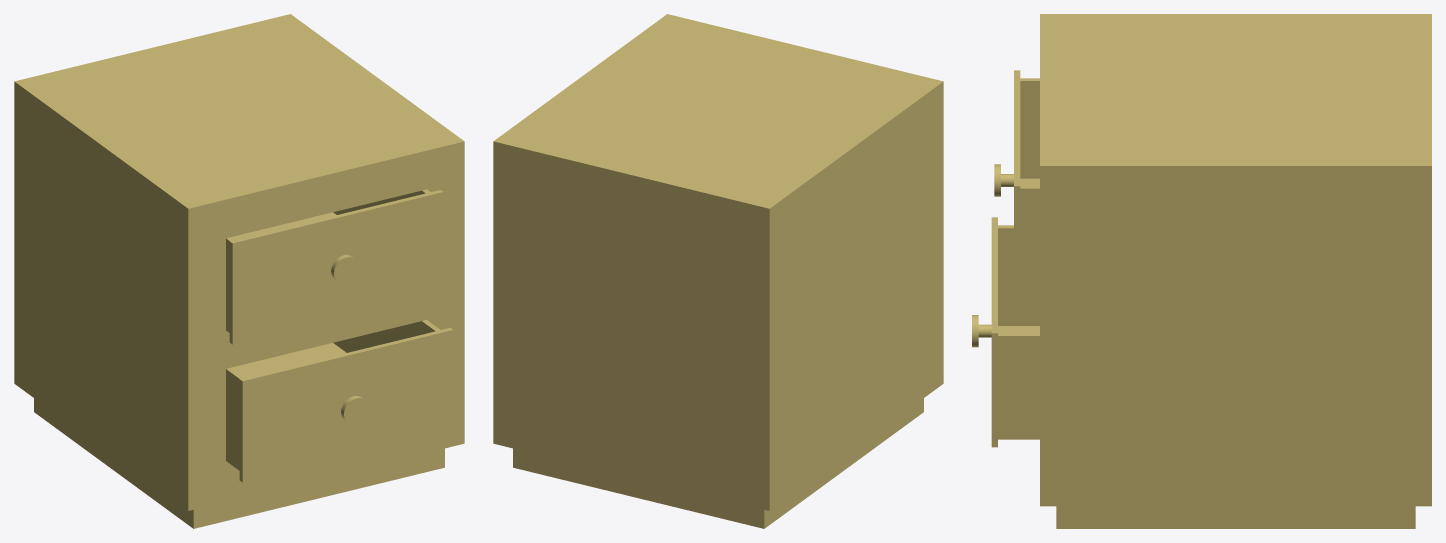
Rendered from Buro.obj.
3 views of the same model, side by side, from view 1: azimuth 30°, elevation 25°; view 2: azimuth 150°, elevation 25°; view 3: azimuth 270°, elevation 25° (orthographic). The views are drawn at different scales.
Visible parts, largest first — view 1: pCube15, polySurface22, polySurface21; view 2: pCube15; view 3: pCube15, polySurface22, polySurface21.
Part boxes in pixels (x1=…): pCube15: x1=14, y1=14, x2=464, y2=528; polySurface22: x1=226, y1=320, x2=453, y2=482; polySurface21: x1=226, y1=189, x2=443, y2=344; pCube15: x1=493, y1=14, x2=943, y2=528; pCube15: x1=1040, y1=14, x2=1431, y2=528; polySurface22: x1=972, y1=217, x2=1039, y2=447; polySurface21: x1=994, y1=70, x2=1039, y2=300.
Size of the model in its own units: 1.1 by 1.25 by 1.41.
1 material, 1 textured.
